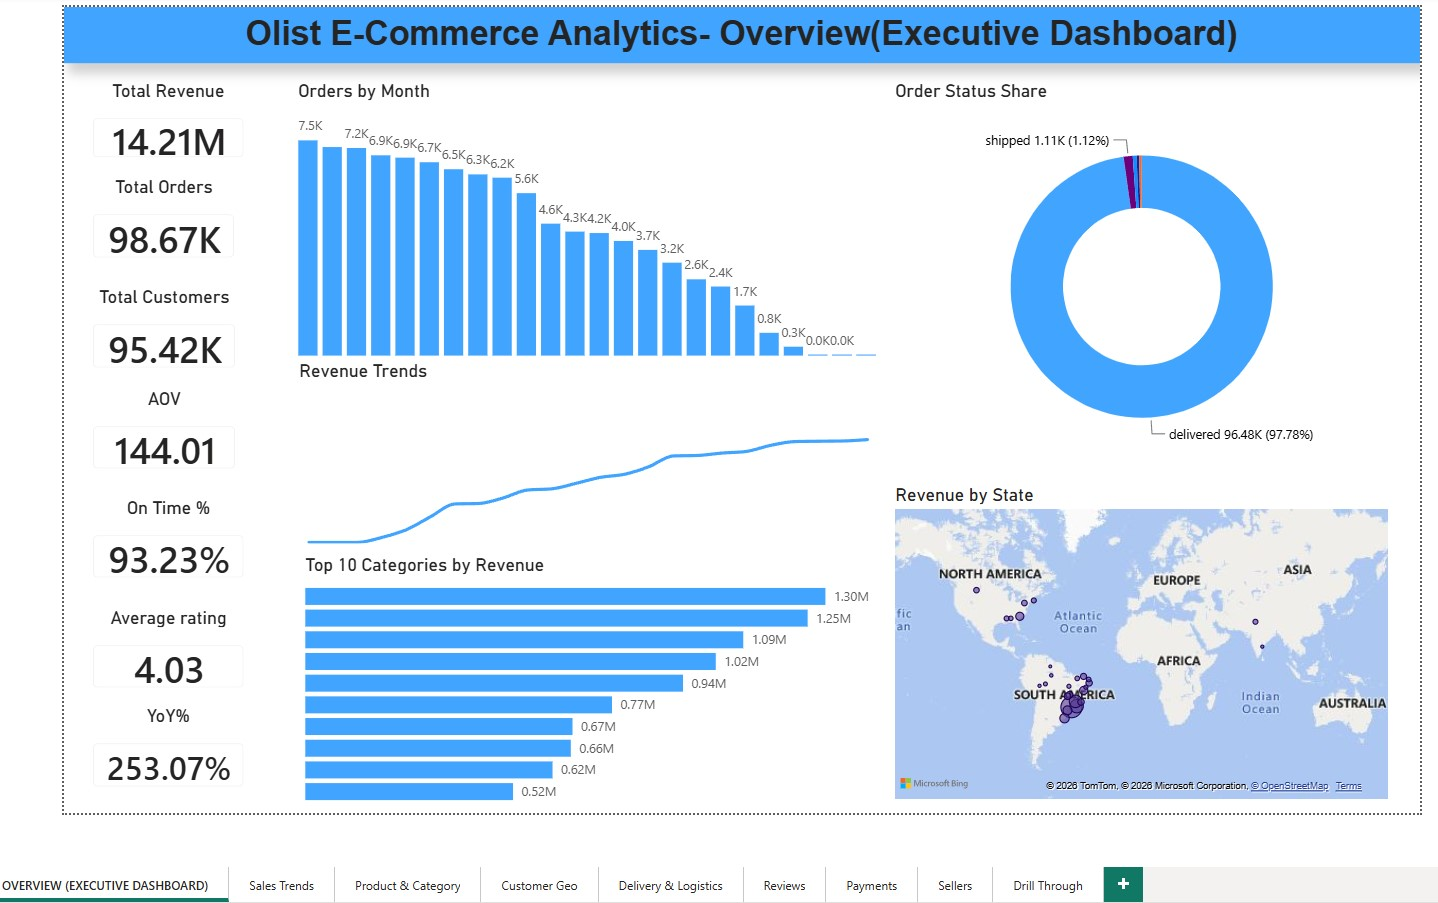

The dashboard page shown, as its layout file describes it:
{"tool":"powerbi","page":{"name":"OVERVIEW (EXECUTIVE DASHBOARD)","canvas":[1280,760],"ordinal":0},"visuals":[{"type":"cardVisual","title":"Total Revenue","fields":{"Data":["public bi_fact_sales.Revenue"]},"box":[10.4,68.8,176,90.6],"z":0},{"type":"cardVisual","title":"Total Orders","fields":{"Data":["public bi_fact_sales.Orders"]},"box":[10.4,159.3,167.8,94.5],"z":1000},{"type":"cardVisual","title":"Total Customers","fields":{"Data":["public bi_fact_sales.Customers"]},"box":[10.1,263.2,168.5,94.9],"z":2000},{"type":"cardVisual","title":"AOV","fields":{"Data":["public bi_fact_sales.AOV"]},"box":[10.1,359,168.5,94],"z":3000},{"type":"cardVisual","title":"On Time %","fields":{"Data":["public bi_fact_sales.On-time %"]},"box":[10.1,462.7,176.5,94],"z":4000},{"type":"cardVisual","title":"Average rating","fields":{"Data":["public bi_fact_sales.Avg Rating"]},"box":[10.1,565.6,176.5,94],"z":5000},{"type":"cardVisual","title":"YoY%","fields":{"Data":["public bi_fact_sales.YoY %"]},"box":[10.4,658.3,176,94.8],"z":6000},{"type":"lineChart","title":"Revenue Trends","fields":{"Category":["DimDate.Year-Month"],"Y":["public bi_fact_sales.Revenue"]},"box":[216.7,333.4,555.2,178.1],"z":7000},{"type":"clusteredColumnChart","title":"Orders by Month","fields":{"Y":["public bi_fact_sales.Orders"],"Category":["DimDate.Year-Month"]},"box":[216,69,555,266],"z":8000},{"type":"clusteredBarChart","title":"Top 10 Categories by Revenue","fields":{"Category":["public bi_fact_sales.category"],"Y":["public bi_fact_sales.Revenue"]},"box":[222.9,515.6,541.7,237.5],"z":9000},{"type":"map","title":"Revenue by State","fields":{"Category":["public bi_fact_sales.customer_state"],"Size":["public bi_fact_sales.Revenue"]},"box":[779.2,450,475,302.1],"z":10000},{"type":"donutChart","title":"Order Status Share","fields":{"Y":["public bi_fact_sales.Orders"],"Category":["public bi_fact_sales.order_status"]},"box":[779.2,68.8,475,370.8],"z":11000},{"type":"shape","box":[0,0,1280.2,53.1],"z":12000},{"type":"textbox","box":[164.6,2.1,950,49],"z":13000}]}

Visuals, with their boxes on the page's 1280x760 design canvas (x1, y1, x2, y2). These are canvas units, not pixel positions in the 1438x903 screenshot, which may show the page scaled, cropped or inside an application window:
"Total Revenue" cardVisual: region(10, 69, 186, 159)
"Total Orders" cardVisual: region(10, 159, 178, 254)
"Total Customers" cardVisual: region(10, 263, 179, 358)
"AOV" cardVisual: region(10, 359, 179, 453)
"On Time %" cardVisual: region(10, 463, 187, 557)
"Average rating" cardVisual: region(10, 566, 187, 660)
"YoY%" cardVisual: region(10, 658, 186, 753)
"Revenue Trends" lineChart: region(217, 333, 772, 512)
"Orders by Month" clusteredColumnChart: region(216, 69, 771, 335)
"Top 10 Categories by Revenue" clusteredBarChart: region(223, 516, 765, 753)
"Revenue by State" map: region(779, 450, 1254, 752)
"Order Status Share" donutChart: region(779, 69, 1254, 440)
shape: region(0, 0, 1280, 53)
textbox: region(165, 2, 1115, 51)
